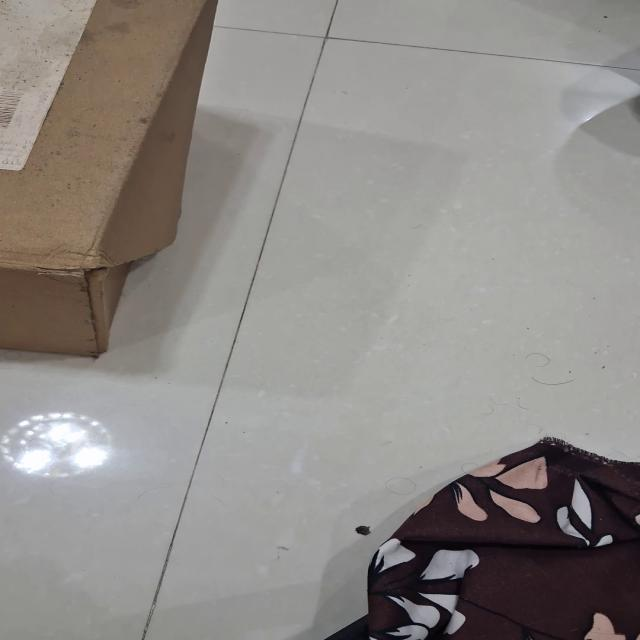paper: (2, 1, 638, 640), (364, 436, 638, 639)
